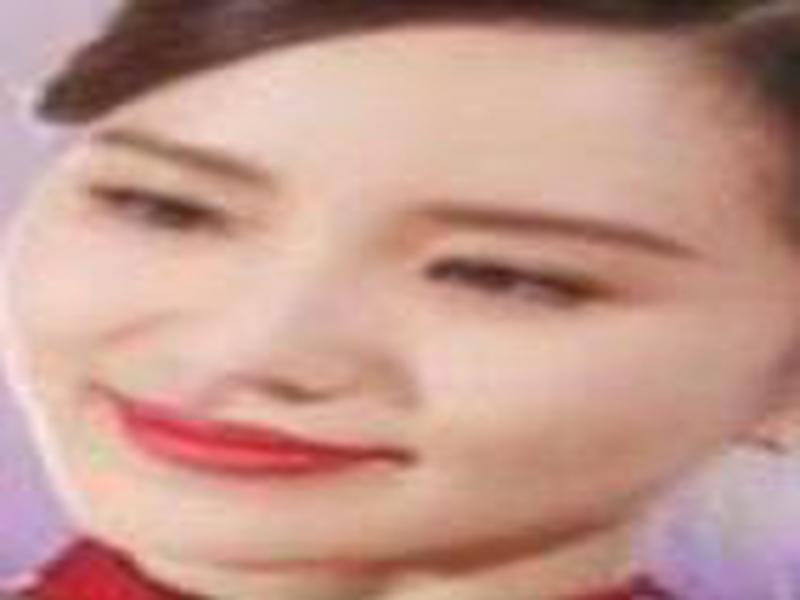without_mask: (1, 27, 770, 570)
